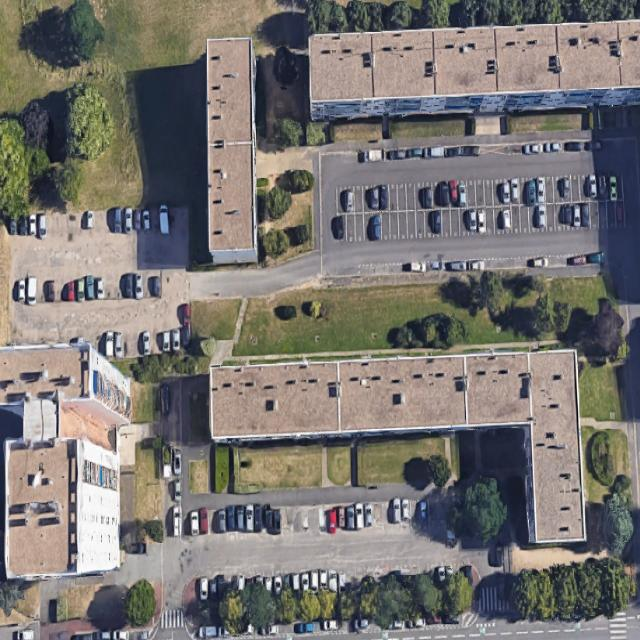immeuble: (207, 349, 585, 557), (306, 17, 640, 120), (0, 341, 131, 580), (206, 38, 256, 262)
